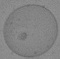small: (17, 31, 27, 40)
